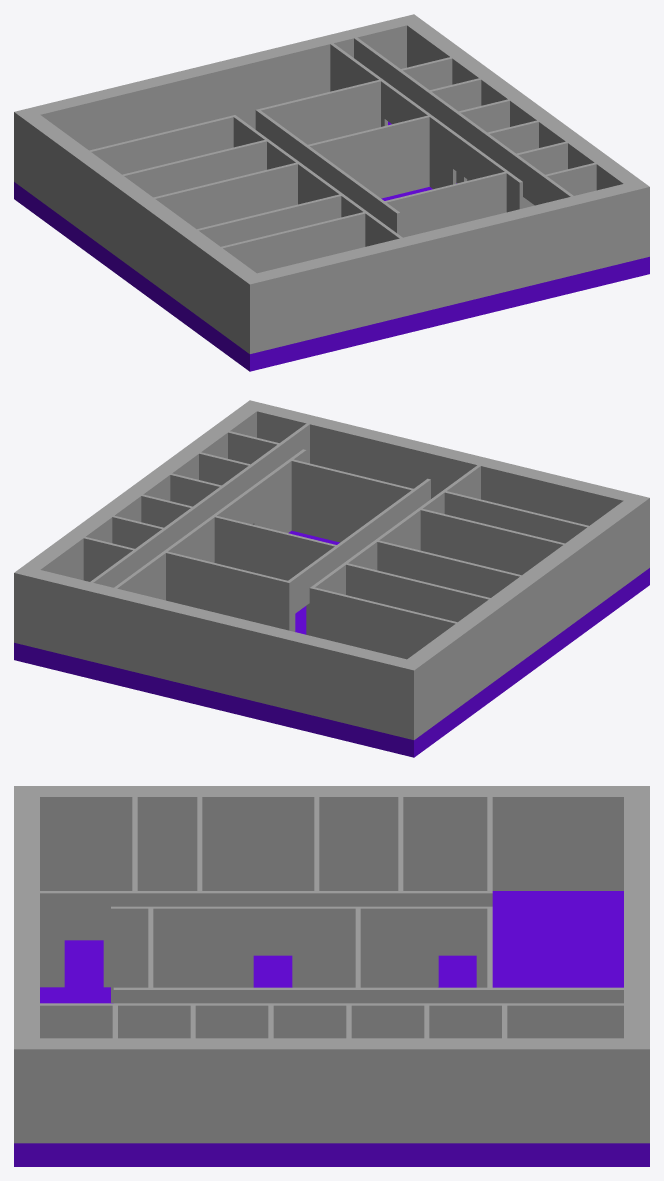
The model's file is Flat2.fbx.
3 renders of one model, top to bottom at view 1: azimuth 30°, elevation 25°; view 2: azimuth 150°, elevation 25°; view 3: azimuth 270°, elevation 25°, orthographic. The views are drawn at different scales.
Parts seen in each view (by area): view 1: ExternalWallDown, ExternalWallUp, ExternalWallLeft, Floor, OfficePublicWall5, ExternalWallRight, VerticalWall2, PublicWall1, VerticalWall1, OfficeWall3, OfficeWall1, HallWall (+10 smaller); view 2: ExternalWallUp, ExternalWallLeft, ExternalWallDown, OfficePublicWall5, Floor, ExternalWallRight, HallWall, VerticalWall2, OfficeWall2, VerticalWall1, PublicWall1, OfficeWall4 (+10 smaller); view 3: ExternalWallRight, ExternalWallLeft, Floor, VerticalWall3, VerticalWall1, VerticalWall4, ExternalWallDown, ExternalWallUp, VerticalWall2, OfficePublicWall5, OfficeWall3, OfficeWall1 (+2 smaller).
Part boxes in pixels (x1=…): ExternalWallDown: x1=240, y1=180, x2=649, y2=353; ExternalWallUp: x1=14, y1=14, x2=423, y2=188; ExternalWallLeft: x1=23, y1=115, x2=256, y2=346; Floor: x1=14, y1=121, x2=649, y2=371; OfficePublicWall5: x1=89, y1=80, x2=380, y2=174; ExternalWallRight: x1=407, y1=21, x2=639, y2=190; VerticalWall2: x1=330, y1=43, x2=522, y2=212; PublicWall1: x1=306, y1=115, x2=431, y2=198; VerticalWall1: x1=350, y1=34, x2=573, y2=208; OfficeWall3: x1=152, y1=162, x2=299, y2=229; OfficeWall1: x1=220, y1=211, x2=366, y2=273; HallWall: x1=384, y1=171, x2=507, y2=237; ExternalWallUp: x1=14, y1=566, x2=423, y2=739; ExternalWallLeft: x1=407, y1=501, x2=640, y2=732; ExternalWallDown: x1=240, y1=400, x2=649, y2=574; OfficePublicWall5: x1=165, y1=551, x2=458, y2=659; Floor: x1=14, y1=530, x2=649, y2=757; ExternalWallRight: x1=24, y1=407, x2=256, y2=580; HallWall: x1=290, y1=459, x2=414, y2=542; VerticalWall2: x1=114, y1=449, x2=306, y2=600; OfficeWall2: x1=419, y1=508, x2=566, y2=575; VerticalWall1: x1=90, y1=420, x2=313, y2=587; PublicWall1: x1=213, y1=515, x2=336, y2=580; OfficeWall4: x1=345, y1=563, x2=491, y2=622; ExternalWallRight: x1=39, y1=1038, x2=623, y2=1143; ExternalWallLeft: x1=40, y1=786, x2=623, y2=890; Floor: x1=14, y1=891, x2=649, y2=1166; VerticalWall3: x1=111, y1=906, x2=487, y2=1002; VerticalWall1: x1=28, y1=1003, x2=636, y2=1038; VerticalWall4: x1=40, y1=891, x2=492, y2=987; ExternalWallDown: x1=14, y1=786, x2=39, y2=1143; ExternalWallUp: x1=624, y1=786, x2=649, y2=1143; VerticalWall2: x1=113, y1=987, x2=623, y2=1003; OfficePublicWall5: x1=487, y1=796, x2=492, y2=987; OfficeWall3: x1=314, y1=796, x2=319, y2=891; OfficeWall1: x1=132, y1=796, x2=137, y2=891.
Bounding box in the file's own units: 24 × 5 × 24.5.
